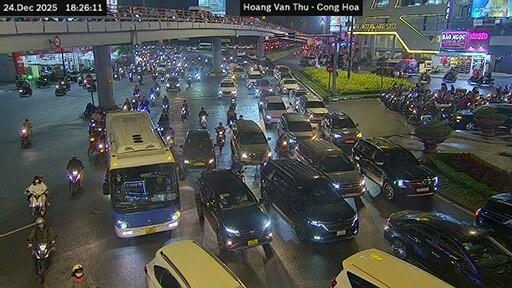motorbike: (32, 240, 53, 283), (28, 193, 44, 216), (67, 169, 80, 197), (19, 127, 32, 147), (231, 166, 246, 180), (89, 118, 102, 134), (216, 130, 224, 153), (83, 104, 96, 117), (35, 76, 51, 86), (477, 76, 493, 85), (19, 85, 32, 95), (54, 81, 64, 94), (227, 113, 236, 127), (147, 93, 156, 106), (467, 75, 480, 84), (60, 79, 70, 90), (442, 72, 454, 81), (153, 82, 160, 97), (419, 72, 429, 82), (179, 107, 186, 121), (166, 135, 172, 151), (229, 95, 236, 108), (86, 81, 96, 90), (199, 116, 207, 127), (121, 103, 131, 111), (16, 79, 24, 88), (137, 73, 143, 84), (112, 72, 120, 79), (186, 76, 191, 86), (162, 103, 167, 112), (128, 71, 132, 81), (133, 90, 138, 98), (152, 72, 156, 80)
